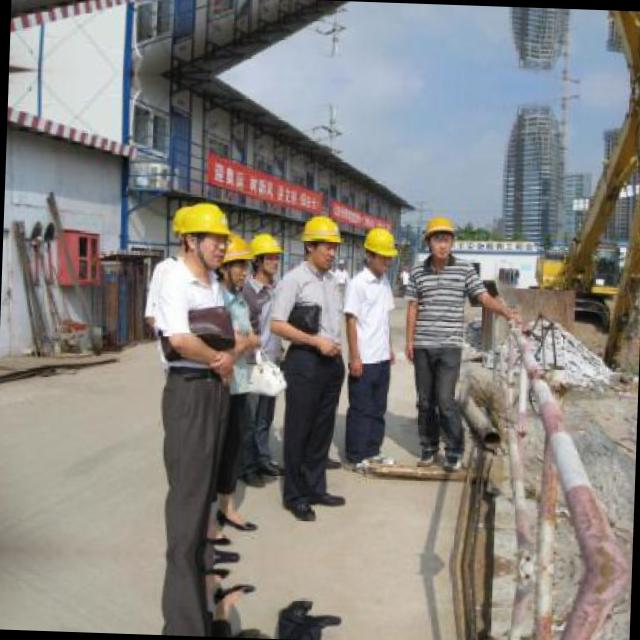helmet: (170, 201, 230, 271), (296, 213, 342, 267), (418, 210, 460, 262), (218, 233, 255, 290), (362, 223, 401, 276), (247, 230, 280, 282)
